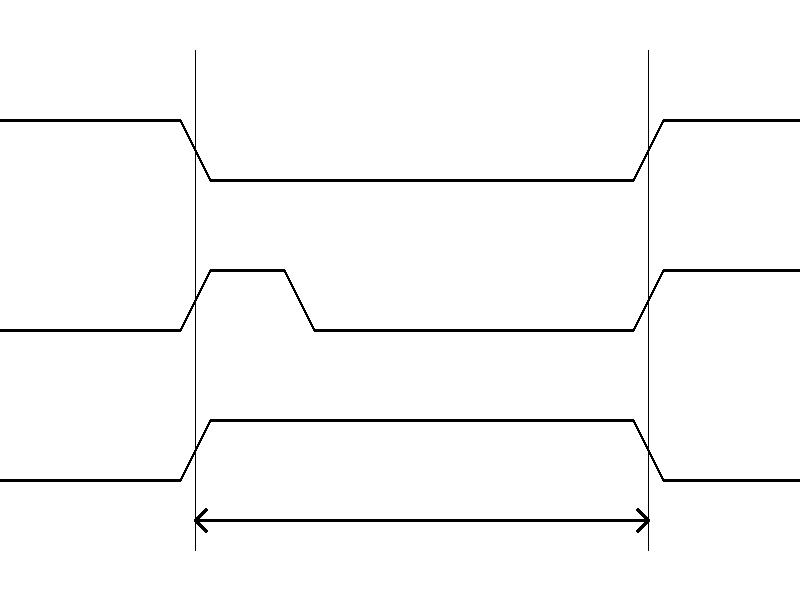double_arrow: (195, 505, 648, 535)
